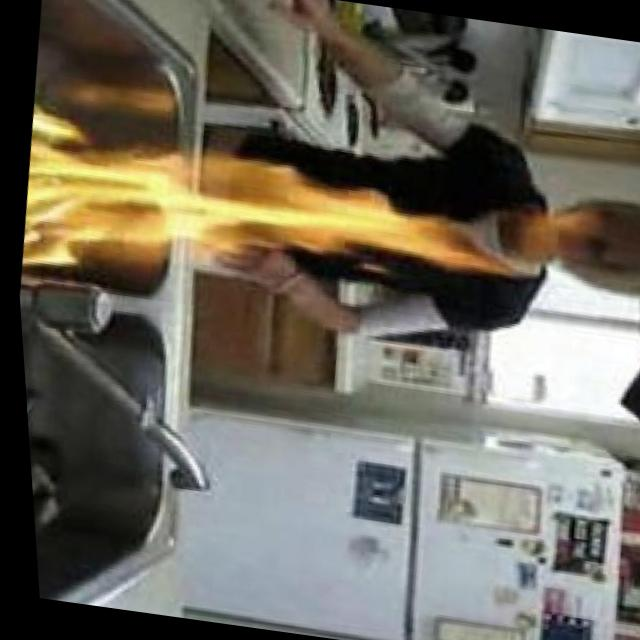Fire: (12, 123, 503, 320)
